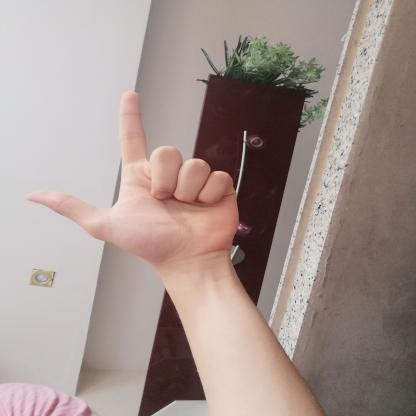LAAM: (15, 83, 247, 270)
